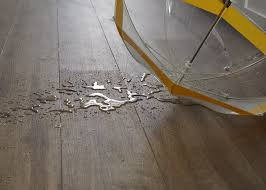Wet-floor: (1, 69, 189, 131), (78, 74, 170, 124)
